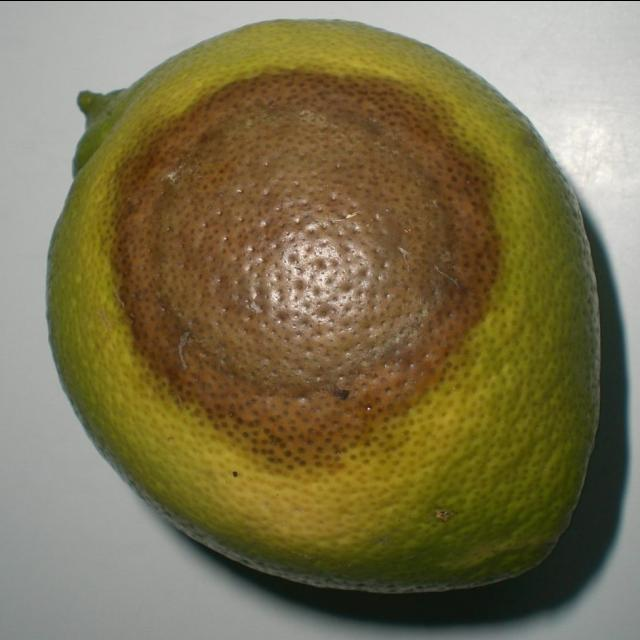Rotten: (42, 19, 604, 596)
